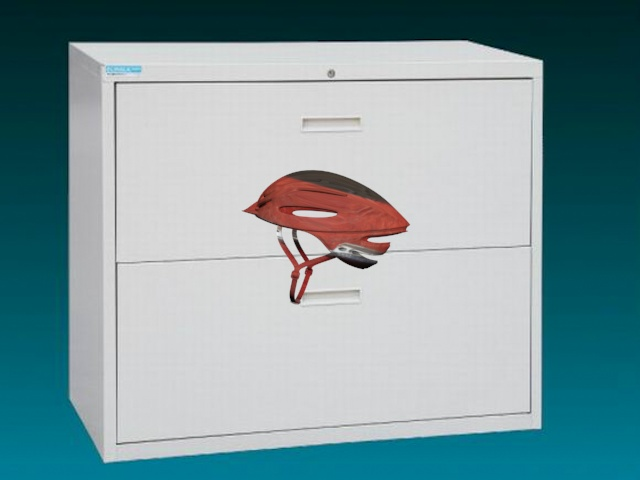bike_helmet: (240, 161, 417, 312)
